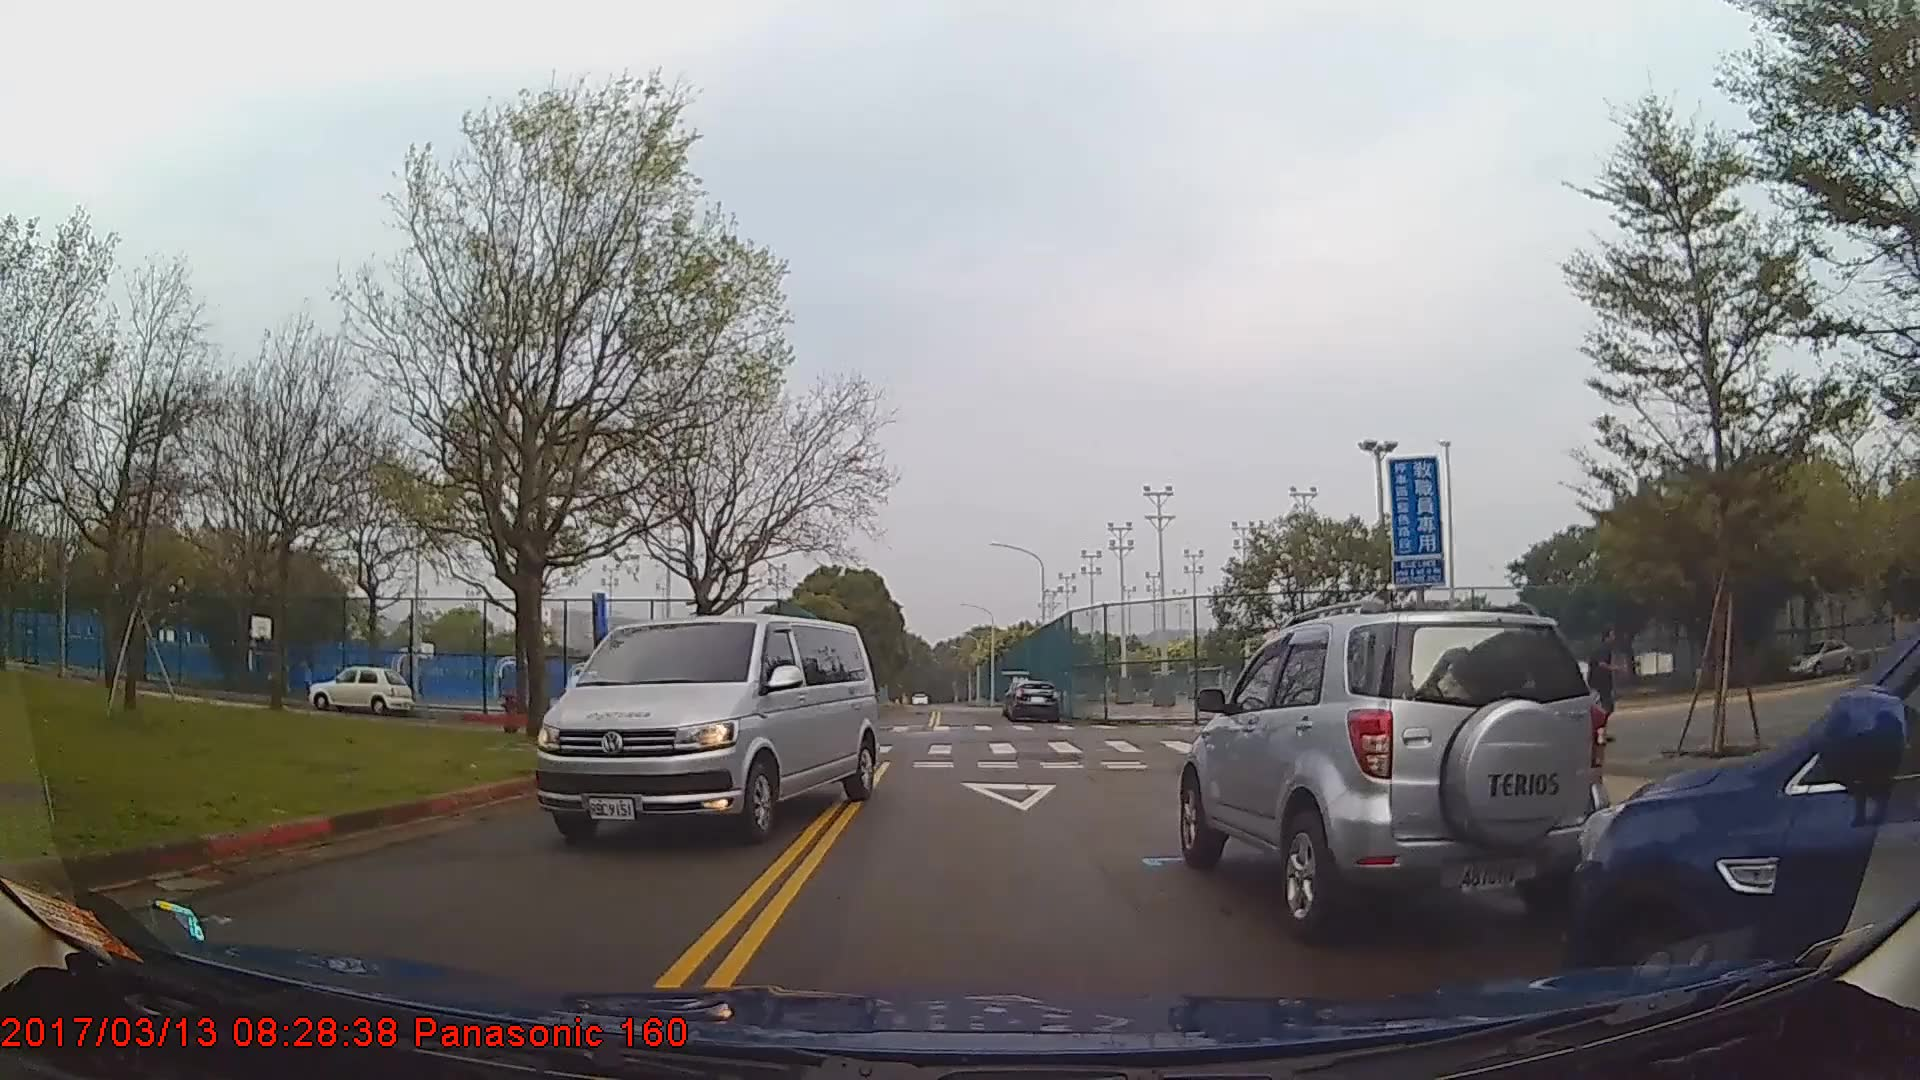vehicle: (1565, 632, 1920, 1033), (1178, 611, 1607, 935), (533, 612, 880, 847), (305, 663, 413, 715), (1785, 638, 1859, 680), (1005, 679, 1062, 723)
